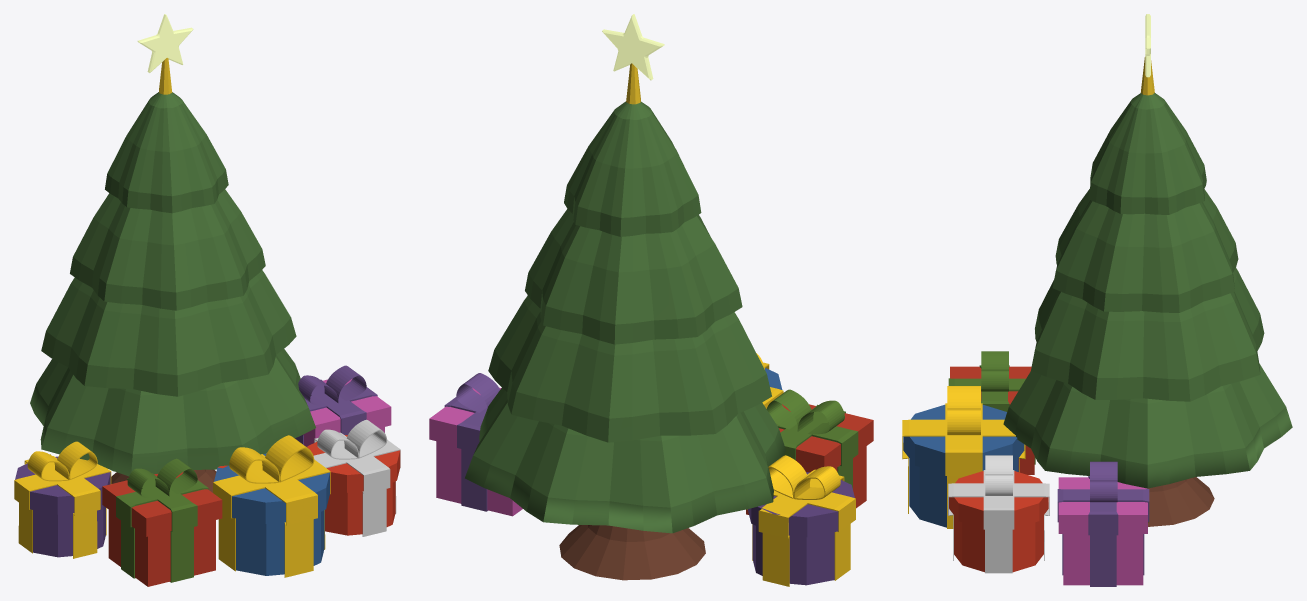
File: TreeOpt.glb
3 renders of one model, left to right at view 1: azimuth 30°, elevation 25°; view 2: azimuth 150°, elevation 25°; view 3: azimuth 270°, elevation 25°, orthographic. The views are drawn at different scales.
Visible parts, largest first — view 1: Tree; view 2: Tree; view 3: Tree.
Part boxes in pixels (x1,y1,x2,y2): Tree: [14, 14, 400, 586]; Tree: [429, 14, 873, 586]; Tree: [902, 14, 1292, 586].
Size of what is drawn, in the model's own units: 2.57 by 3.35 by 2.45.
Materials: 3 (3 with a texture image).
